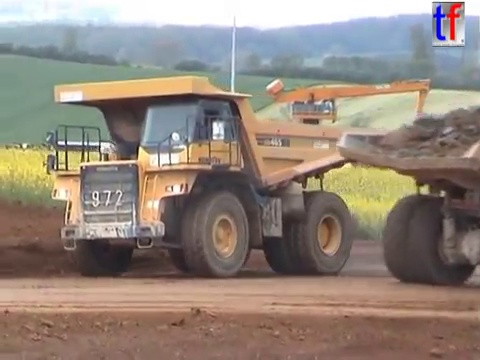crane: (263, 74, 433, 152)
truck: (39, 73, 405, 281), (334, 126, 480, 289)
